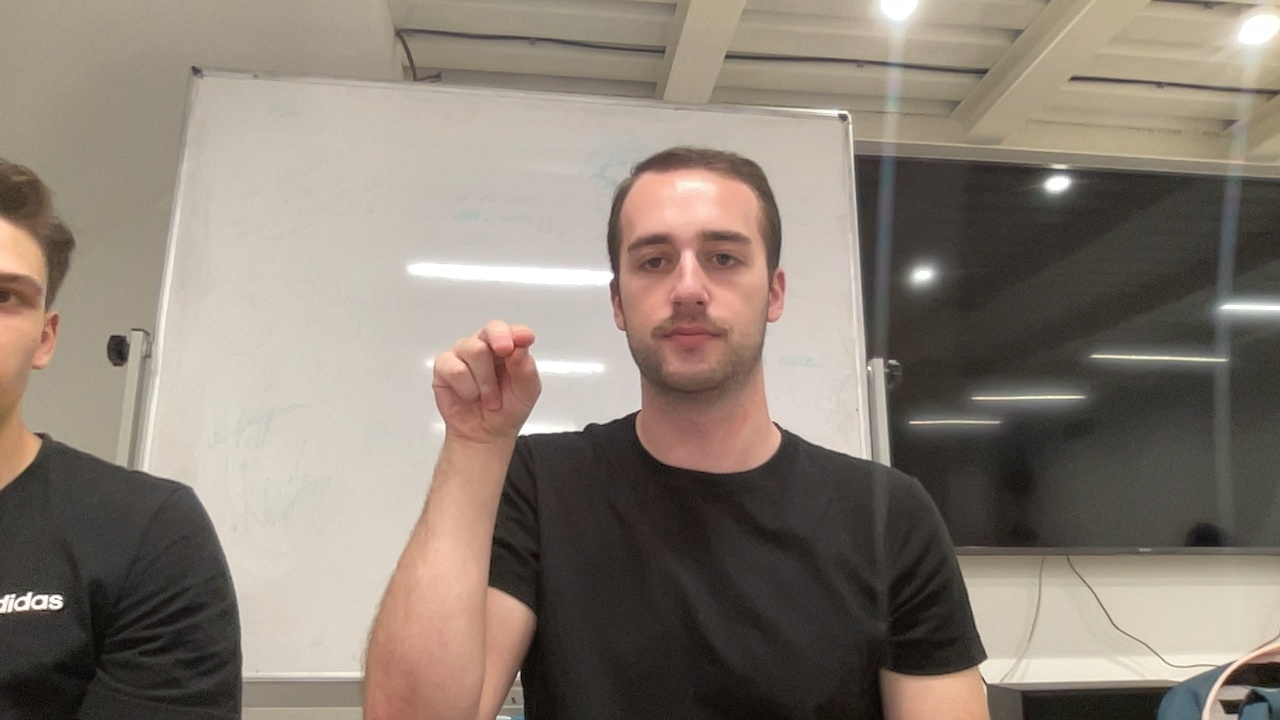No: (430, 314, 545, 451)
